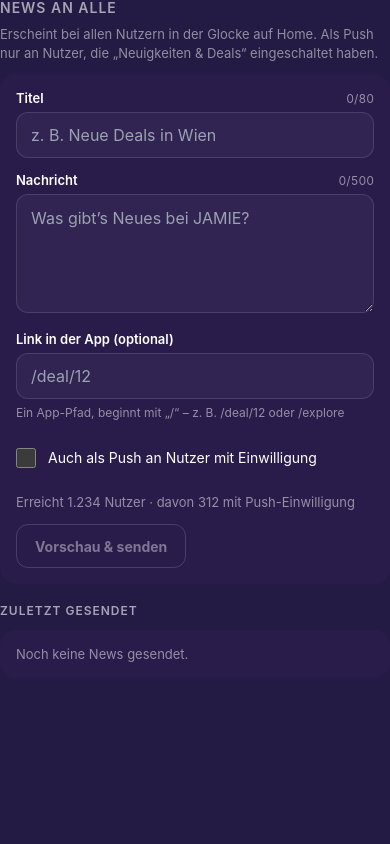
Test case: AdminNewsSection › without push: says "nur in der Glocke" and sends push: false, no link
Type "Neue Deals in Wien" into the field labelled "Titel" at (195, 136), box [16, 112, 374, 158]
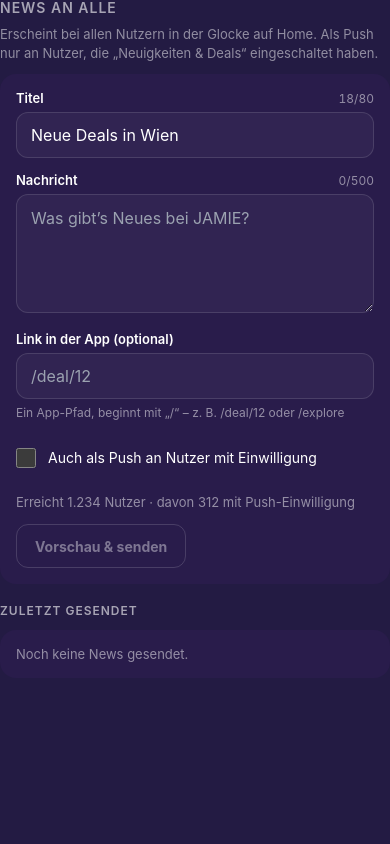
Type "Drei neue Kooperationen — schau rein!" into the text box labelled "Nachricht" at (195, 254), box [16, 194, 374, 313]
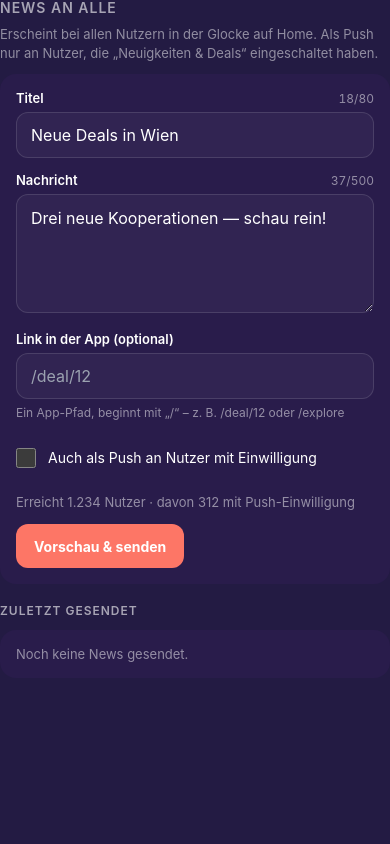
Click the button "Vorschau & senden" at (100, 546), box [16, 524, 184, 568]
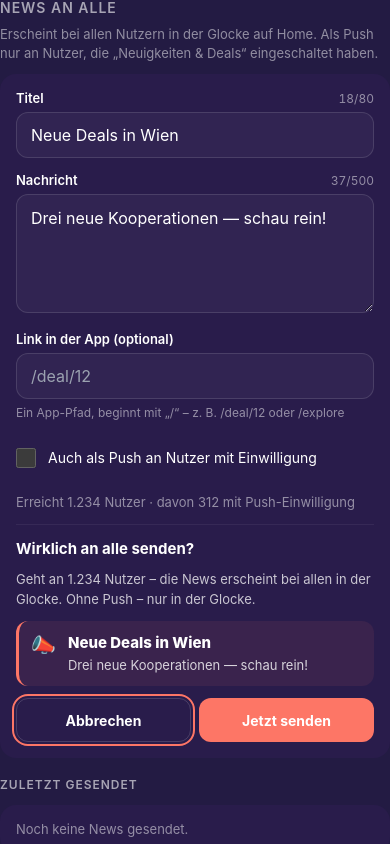
Result: the dialog shows "Ohne Push – nur in der Glocke." at [66, 590, 256, 606]
Click the button "Jetzt senden" at (286, 720), box [199, 698, 374, 742]
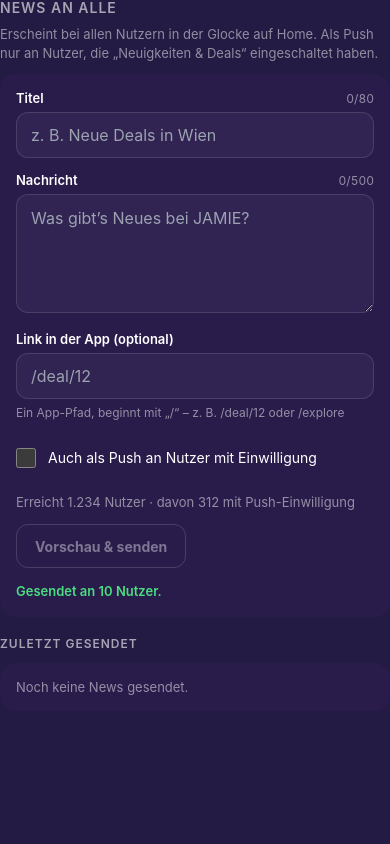
Result: the text "Gesendet an 10 Nutzer." is shown at [16, 583, 162, 599]
